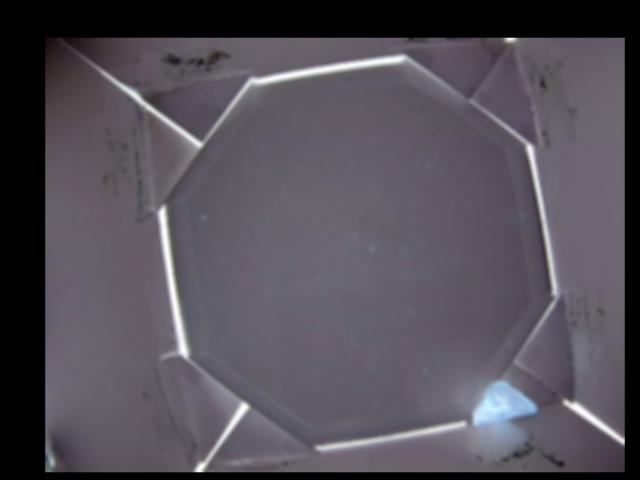Brisk: (471, 380, 537, 420)
